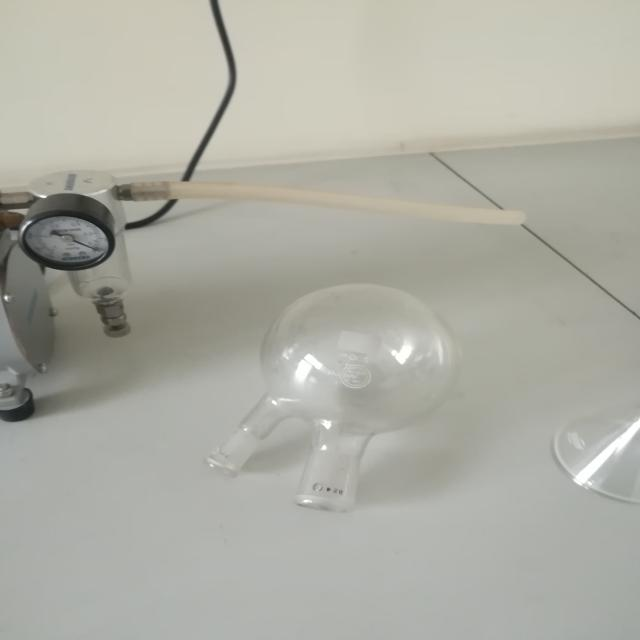Round_Bottom_Flask_Borosilicate_Glass_2_Neck: (177, 254, 483, 546)
